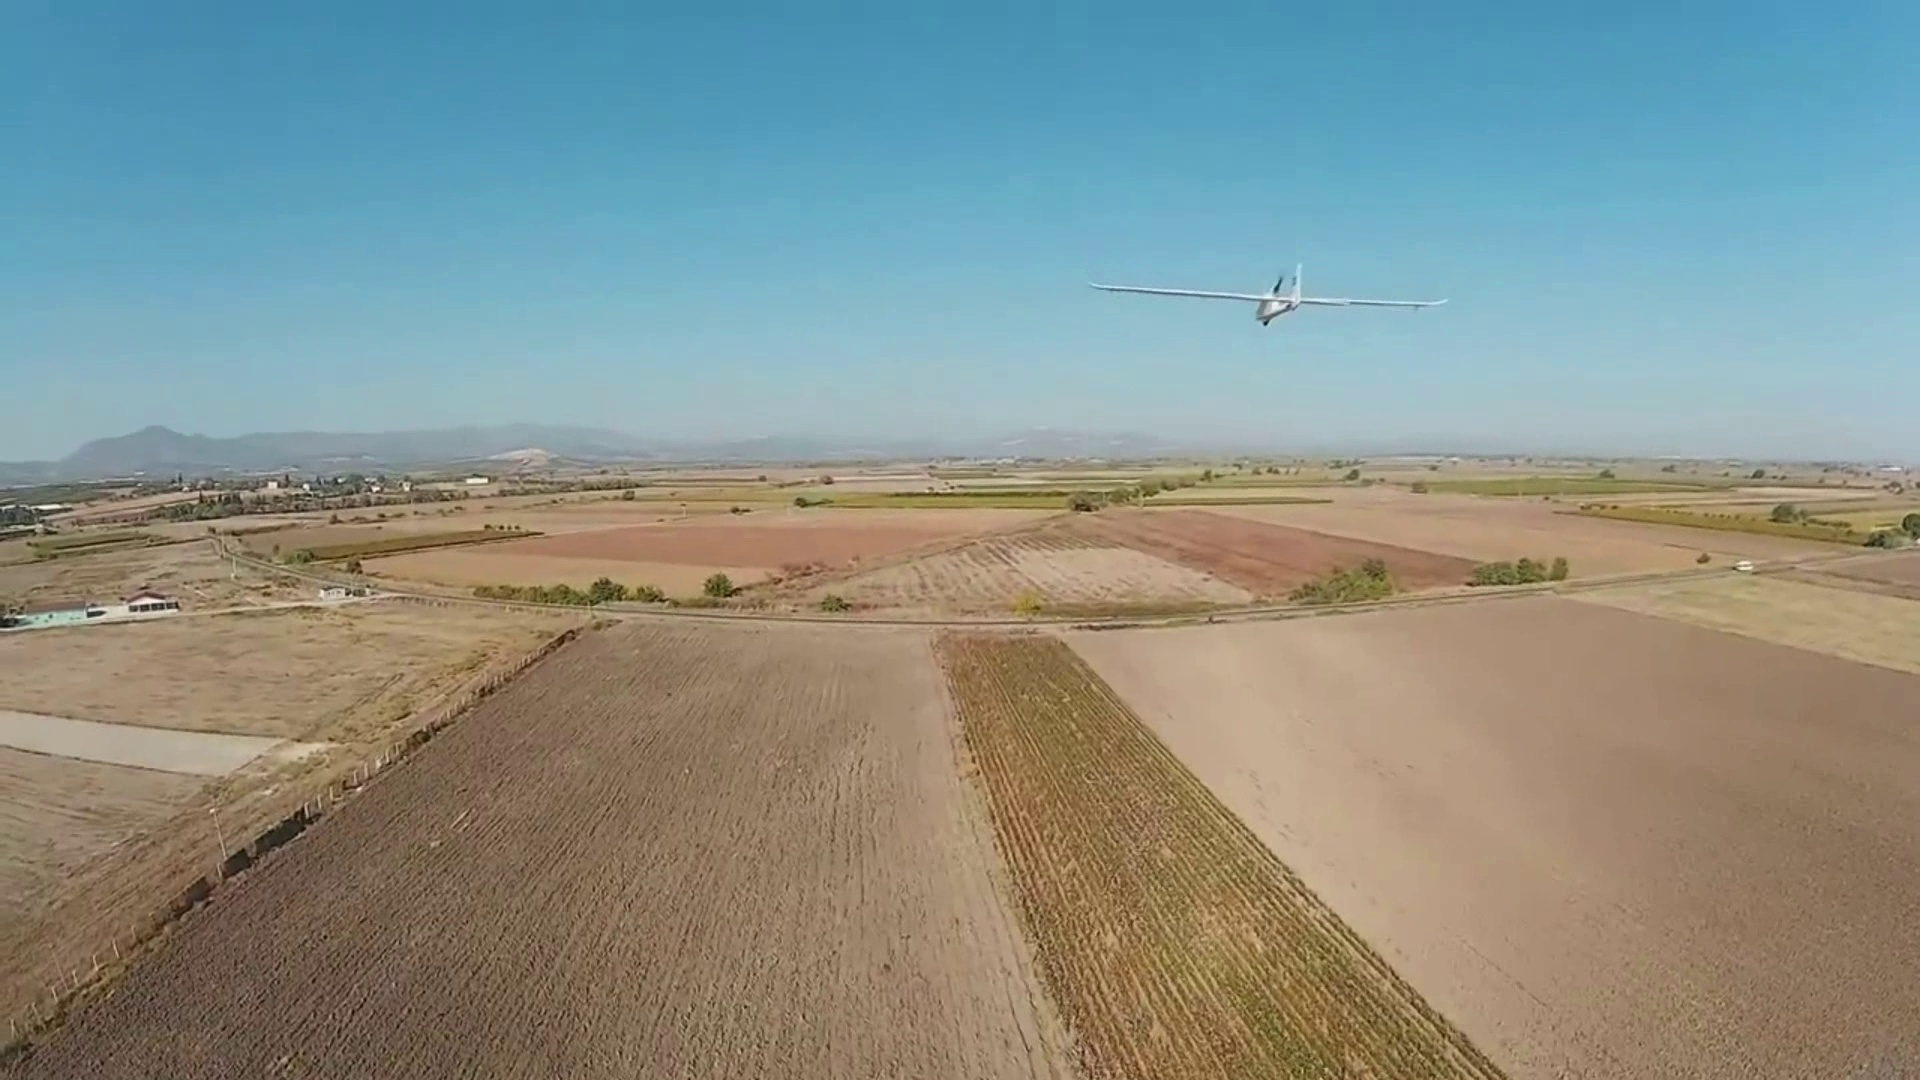airplane: (1086, 261, 1445, 324)
